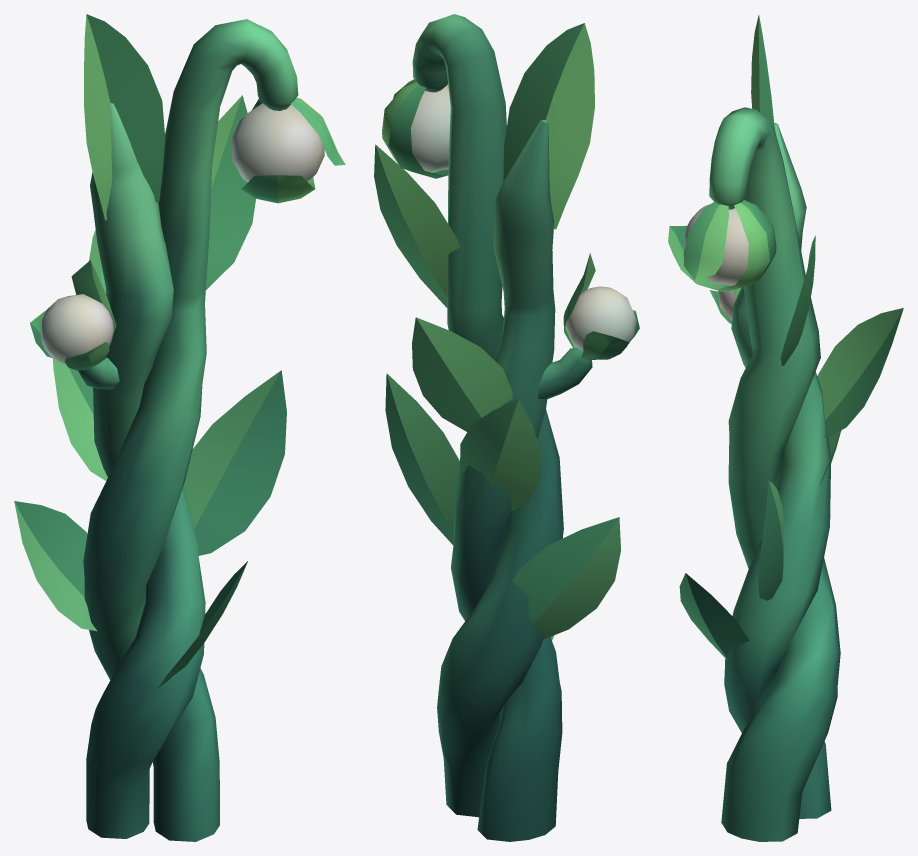
Rendered from Leviathan_Kelp_Tree_Remake.glb.
3 views of the same model, side by side, from view 1: azimuth 30°, elevation 25°; view 2: azimuth 150°, elevation 25°; view 3: azimuth 270°, elevation 25° (orthographic). The views are drawn at different scales.
Visible parts, largest first — view 1: Kelp_Remake; view 2: Kelp_Remake; view 3: Kelp_Remake.
Boxes of the visible parts, x1,y1,x2,y2 form: Kelp_Remake: [14, 14, 345, 841]; Kelp_Remake: [374, 14, 639, 841]; Kelp_Remake: [668, 15, 903, 841].
Bounding box in the file's own units: 4.08 × 11.63 × 3.23.
